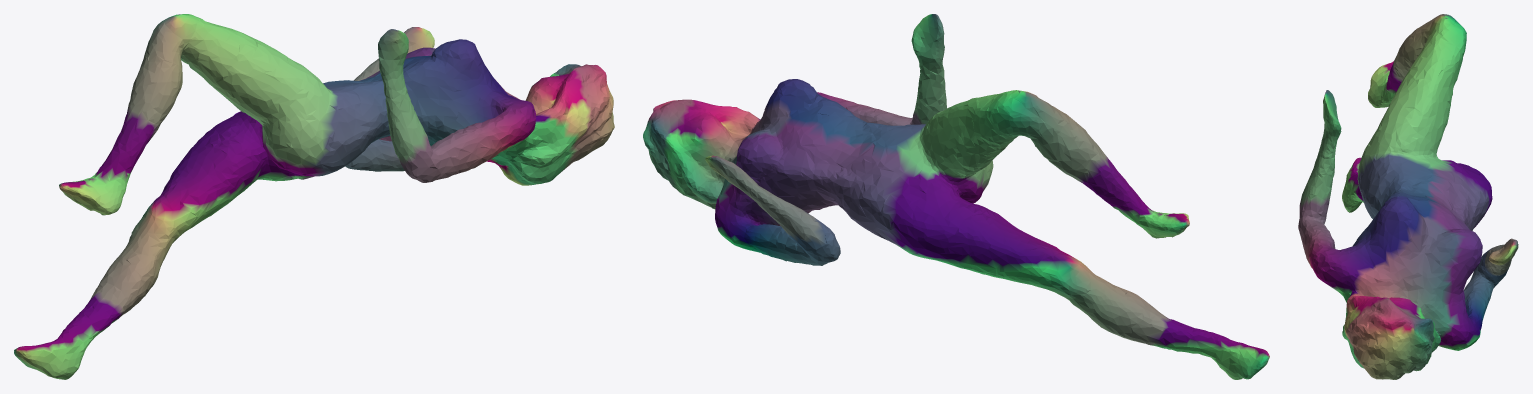
The model's file is woman-8.off.obj.
The picture shows the model from 3 angles, left to right: view 1: azimuth 30°, elevation 25°; view 2: azimuth 150°, elevation 25°; view 3: azimuth 270°, elevation 25°; orthographic projection. The views are drawn at different scales.
Size of the model in its own units: 1.48 by 0.6644 by 0.4911.
